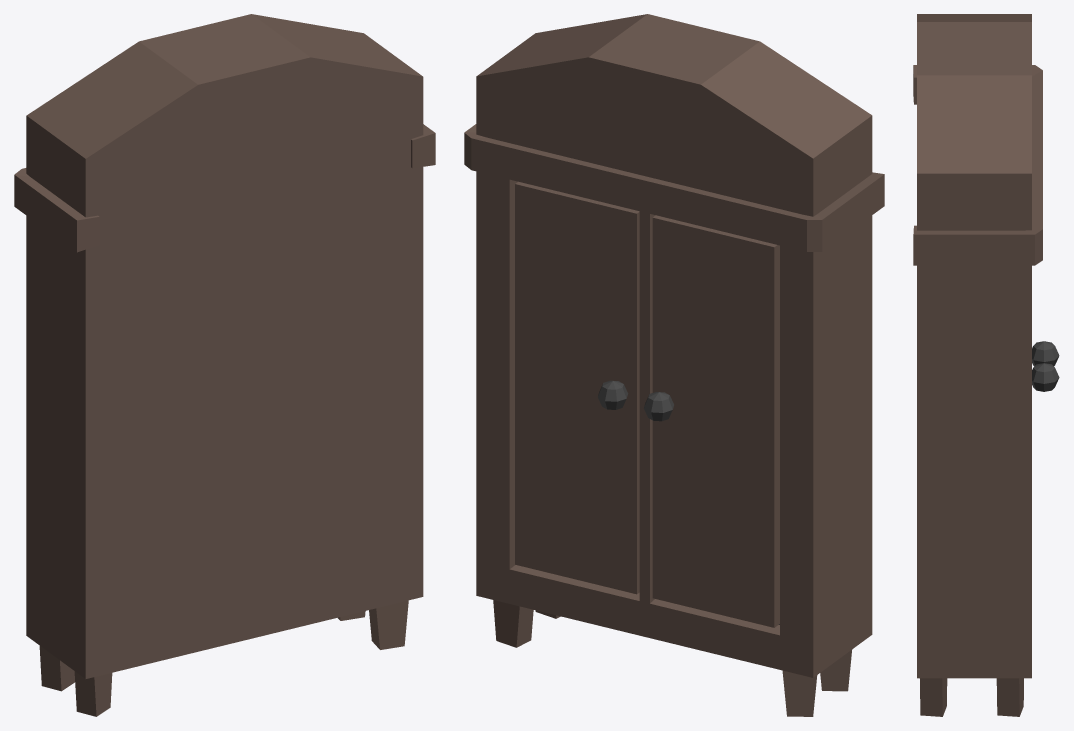
The model's file is Cabinet.fbx.
The picture shows the model from 3 angles, left to right: view 1: azimuth 30°, elevation 25°; view 2: azimuth 150°, elevation 25°; view 3: azimuth 270°, elevation 25°; orthographic projection. The views are drawn at different scales.
Parts seen in each view (by area): view 1: Cabinet; view 2: Cabinet; view 3: Cabinet.
Part boxes in pixels (left/top/right/bottom): Cabinet: left=14, top=14, right=435, bottom=716; Cabinet: left=464, top=14, right=884, bottom=716; Cabinet: left=913, top=14, right=1059, bottom=716.
Bounding box in the file's own units: 524 × 856 × 191.
